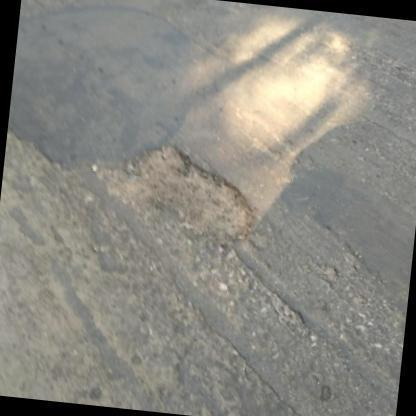pothole: (98, 144, 258, 242)
